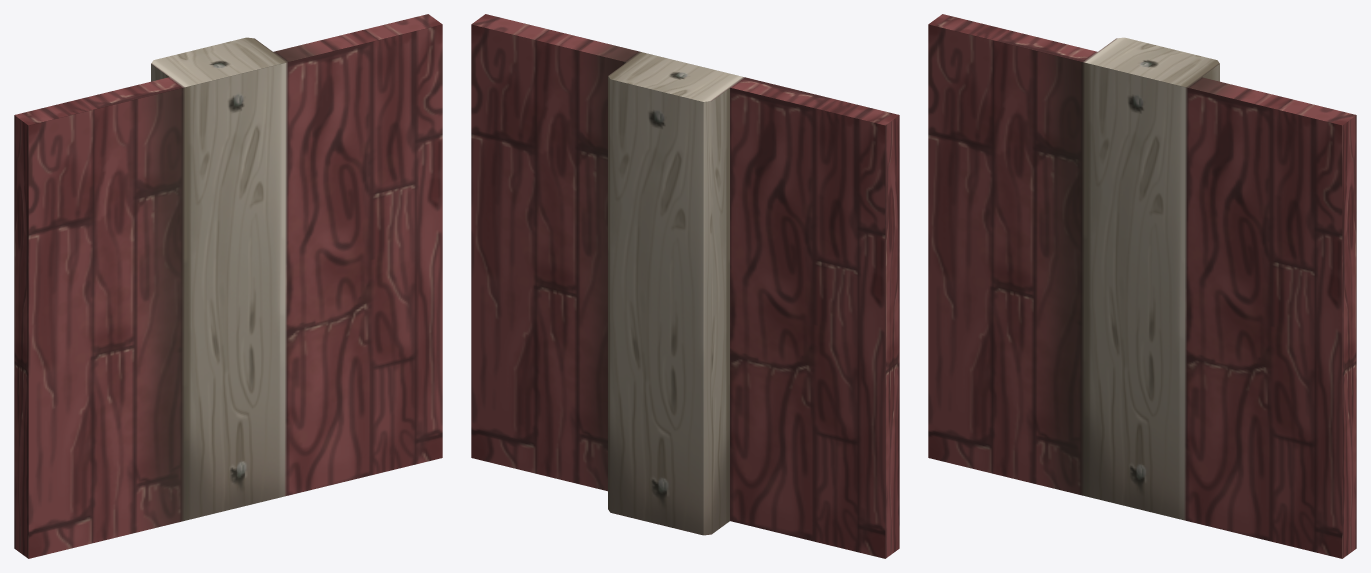
File: barn_wall_pillar.fbx
The picture shows the model from 3 angles, left to right: view 1: azimuth 30°, elevation 25°; view 2: azimuth 150°, elevation 25°; view 3: azimuth 330°, elevation 25°; orthographic projection.
Parts seen in each view (by area): view 1: barn_wall_pillar; view 2: barn_wall_pillar; view 3: barn_wall_pillar.
Boxes of the visible parts, bbox=[...] form: barn_wall_pillar: bbox=[14, 14, 442, 558]; barn_wall_pillar: bbox=[471, 14, 899, 558]; barn_wall_pillar: bbox=[928, 14, 1356, 558].
Bounding box in the file's own units: 5 × 5 × 0.7472.
